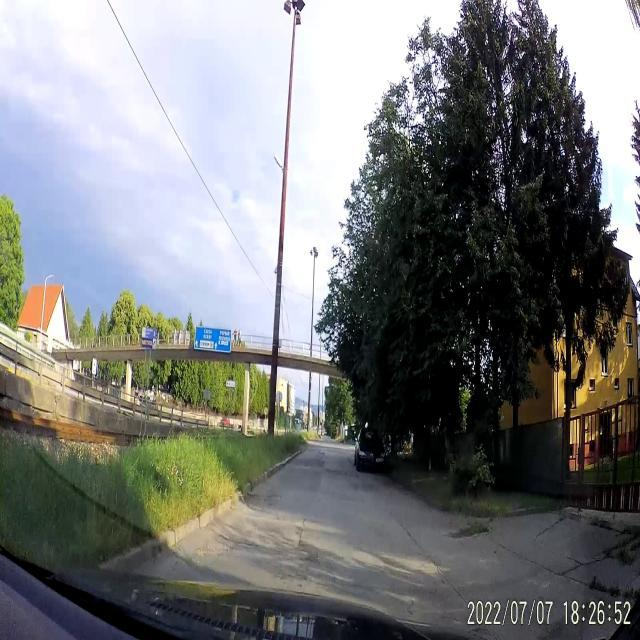Pothole: (244, 489, 280, 518), (200, 538, 254, 556)
